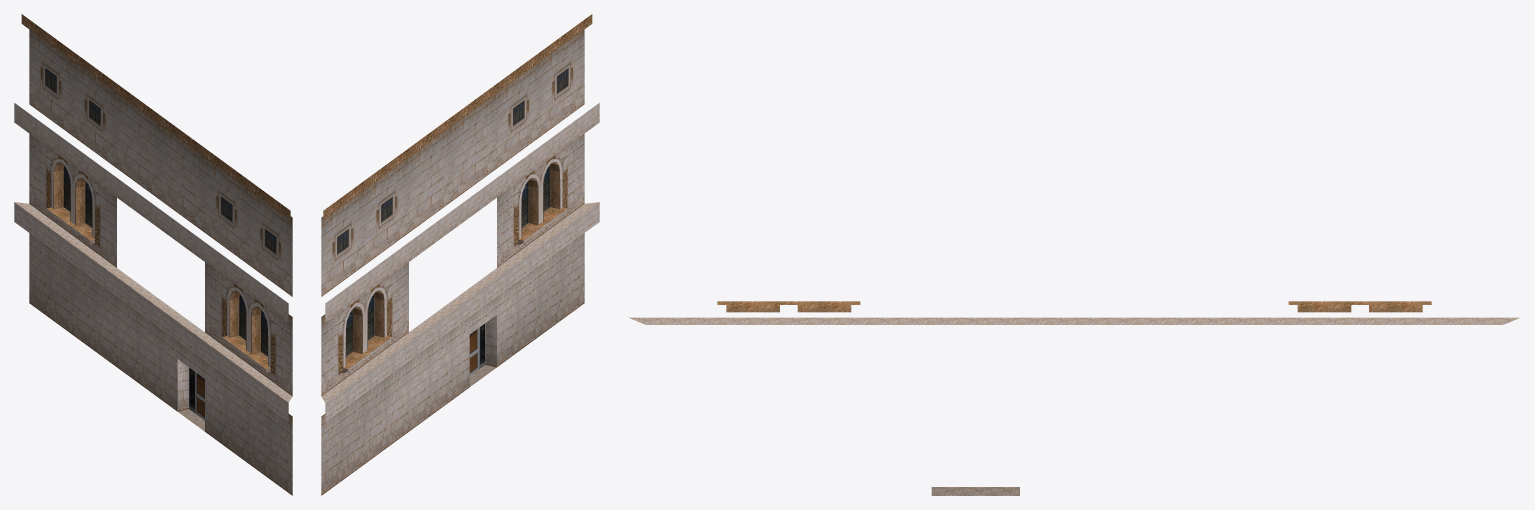
The model's file is M2Zone4_Building15.glb.
3 views of the same model, side by side, from view 1: azimuth 30°, elevation 25°; view 2: azimuth 150°, elevation 25°; view 3: azimuth 270°, elevation 25° (orthographic). The views are drawn at different scales.
Parts seen in each view (by area): view 1: M2ZONE4_BUILDING15; view 2: M2ZONE4_BUILDING15; view 3: M2ZONE4_BUILDING15.
Boxes of the visible parts, bbox=[...] form: M2ZONE4_BUILDING15: bbox=[14, 14, 292, 495]; M2ZONE4_BUILDING15: bbox=[321, 14, 599, 495]; M2ZONE4_BUILDING15: bbox=[629, 301, 1519, 495].
Size of the model in its own units: 1.1 by 14.5 by 25.
6 materials, 6 textured.
